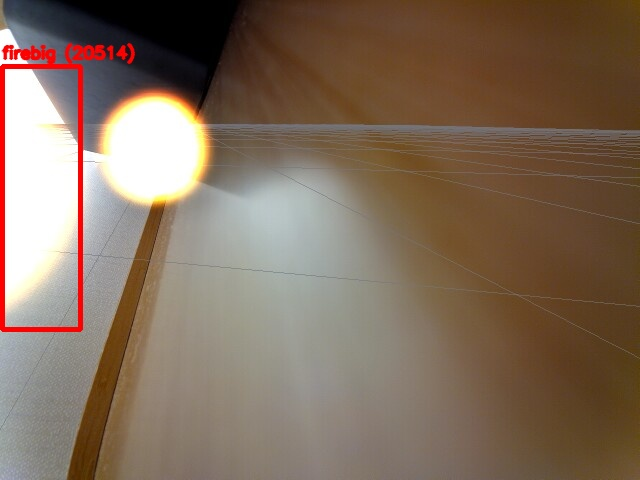firebig: (2, 66, 80, 329)
